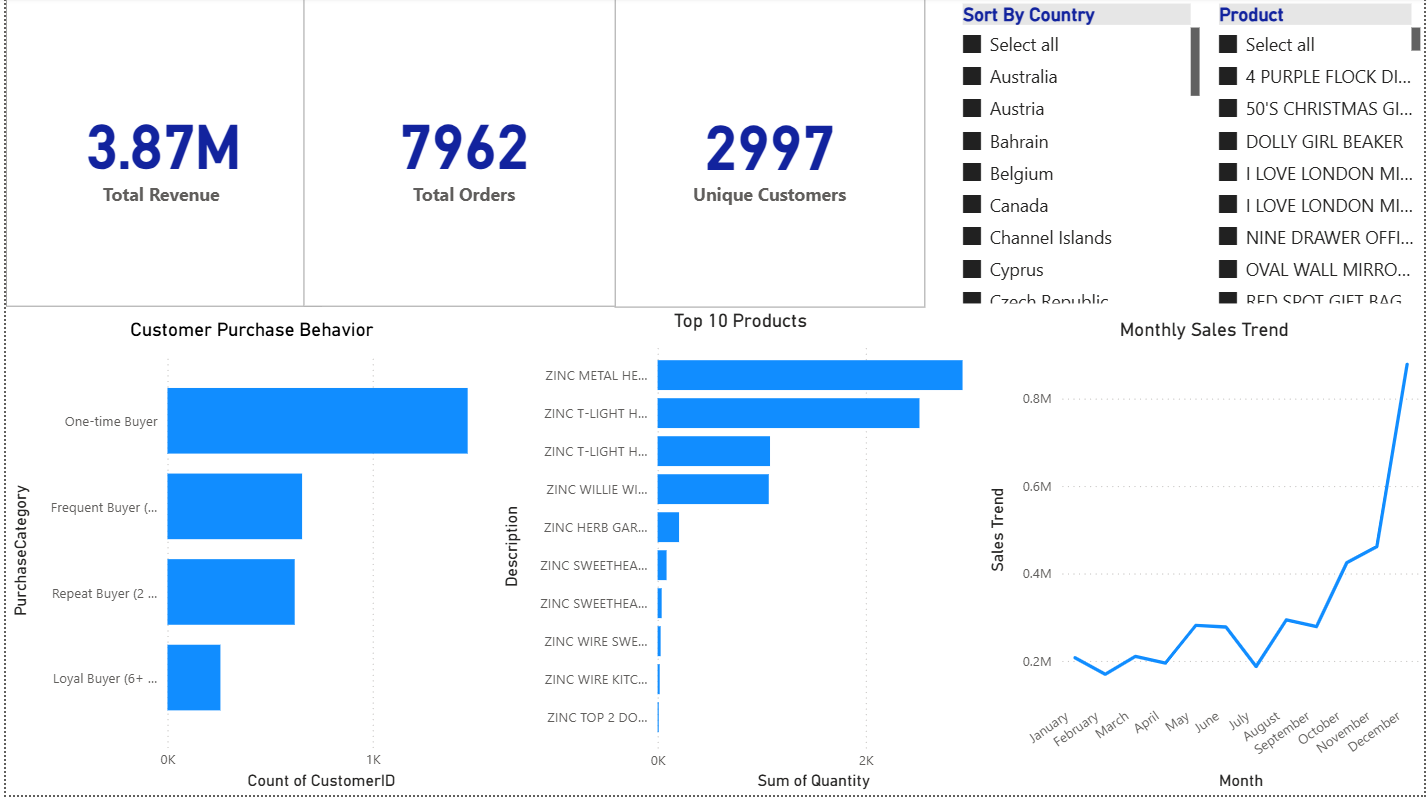

Layout of this report page (visuals, bound fields, positions):
{"tool":"powerbi","page":{"name":"Page 1","canvas":[1280,720],"ordinal":0},"visuals":[{"type":"card","fields":{"Values":["Sum(ecommerce_cleaned.TotalAmount)"]},"box":[0,0,285,279.6],"z":0},{"type":"card","fields":{"Values":["Count(ecommerce_cleaned.InvoiceNo)"]},"box":[268.7,0,290.4,279.6],"z":1000},{"type":"card","fields":{"Values":["Count(ecommerce_cleaned.CustomerID)"]},"box":[548.6,0,279.9,279.9],"z":2000},{"type":"barChart","title":"Top 10 Products","fields":{"Category":["ecommerce_cleaned.Description"],"Y":["Sum(ecommerce_cleaned.Quantity)"]},"box":[443.3,281.7,438.3,438.3],"z":3000},{"type":"slicer","fields":{"Values":["ecommerce_cleaned.Country"]},"box":[849.6,1.2,231.4,279.9],"z":4000},{"type":"lineChart","title":"Monthly Sales Trend","fields":{"Y":["Sum(ecommerce_cleaned.TotalAmount)"],"Category":["ecommerce_cleaned.InvoiceDate.Variation.Date Hierarchy.Month"]},"box":[882,289.8,398.1,430.4],"z":5000},{"type":"slicer","fields":{"Values":["ecommerce_cleaned.Description"]},"box":[1081,1,199,280],"z":6000},{"type":"barChart","title":"Customer Purchase Behavior","fields":{"Category":["CustomerPurchaseCount.PurchaseCategory"],"Y":["CountNonNull(CustomerPurchaseCount.CustomerID)"]},"box":[0,290,443.3,430],"z":7000}]}

Visuals, with their boxes in screenshot pixels (x1, y1, x2, y2), scaled from the page's 1280x720 canvas onto the 1427x797 screenshot:
card - Sum(ecommerce_cleaned.TotalAmount): Rect(0, 0, 318, 310)
card - Count(ecommerce_cleaned.InvoiceNo): Rect(300, 0, 623, 310)
card - Count(ecommerce_cleaned.CustomerID): Rect(612, 0, 924, 310)
"Top 10 Products" barChart: Rect(494, 312, 983, 796)
slicer - ecommerce_cleaned.Country: Rect(947, 1, 1205, 311)
"Monthly Sales Trend" lineChart: Rect(983, 321, 1426, 796)
slicer - ecommerce_cleaned.Description: Rect(1205, 1, 1426, 311)
"Customer Purchase Behavior" barChart: Rect(0, 321, 494, 796)
